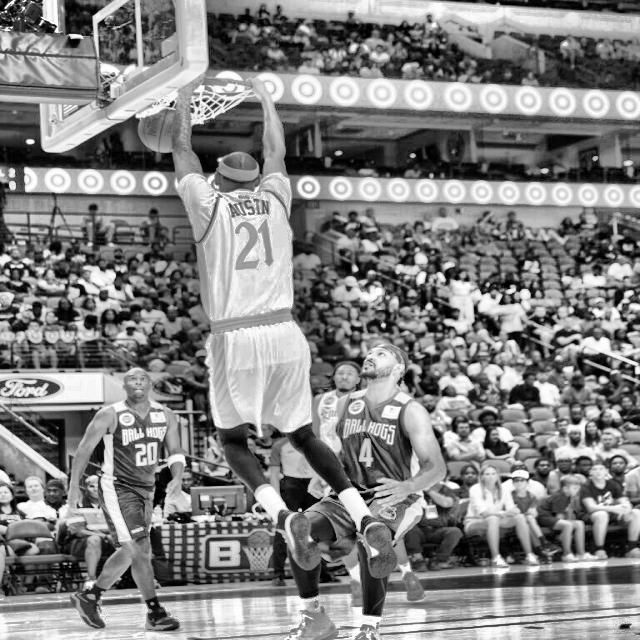Basketball: (138, 108, 174, 152)
